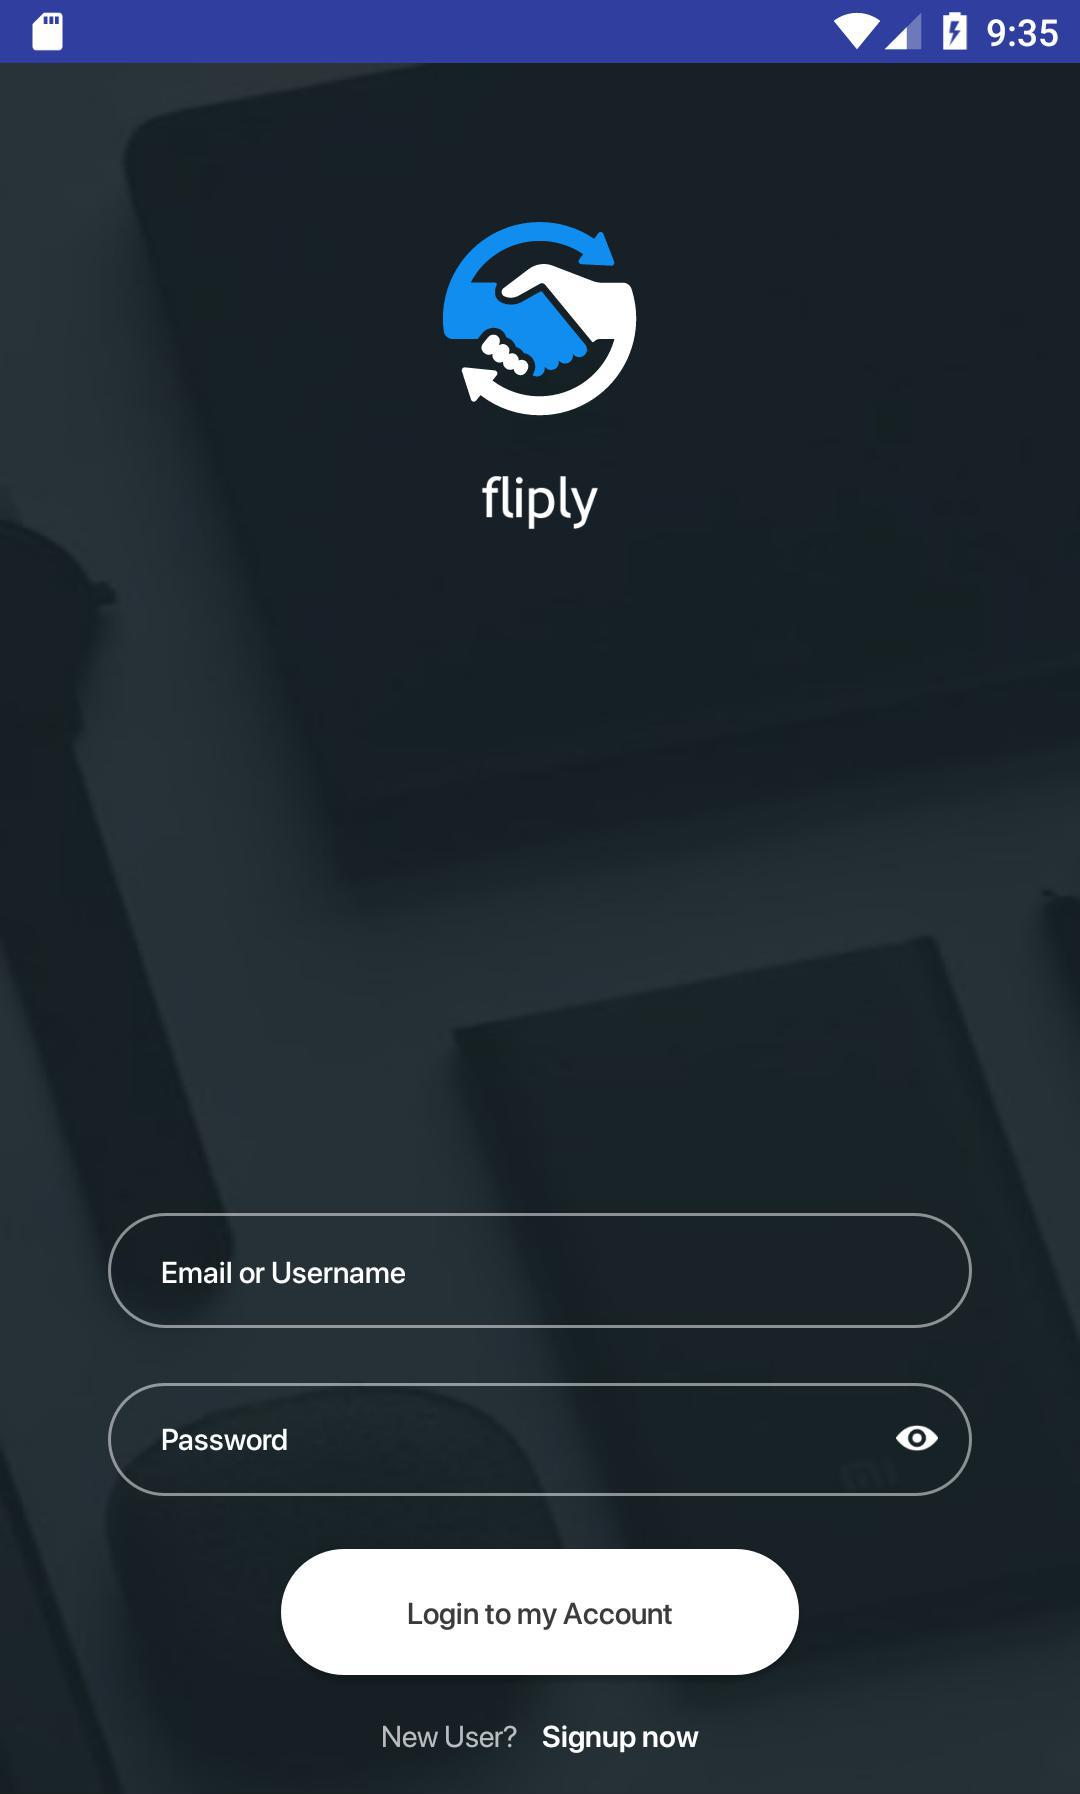BackgroundImage: (1, 64, 1080, 1794)
EditText: (108, 1214, 972, 1329), (108, 1383, 972, 1497)
Icon: (896, 1425, 939, 1452)
Image: (442, 220, 638, 416)
Text: (482, 475, 600, 531), (161, 1261, 406, 1285), (543, 1724, 700, 1754), (382, 1724, 518, 1749), (161, 1428, 288, 1451)
TextButton: (281, 1549, 799, 1676)
UpperTaskBar: (1, 1, 1080, 64)
